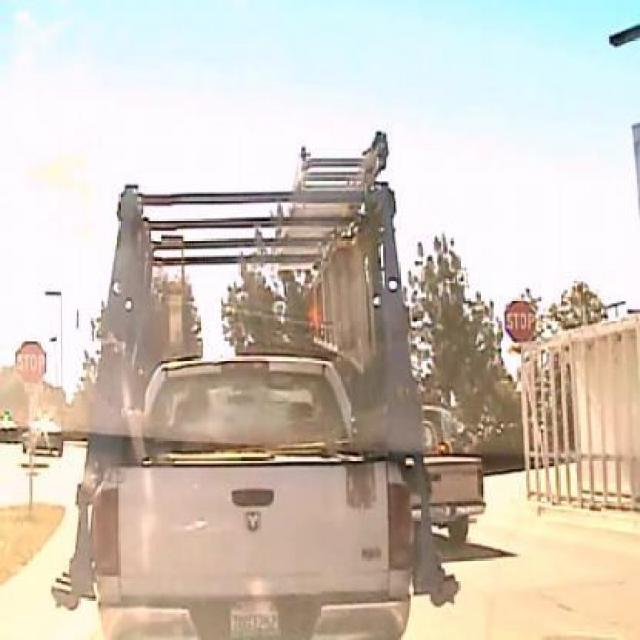traffic_sign: (502, 297, 540, 345), (14, 342, 48, 386)
